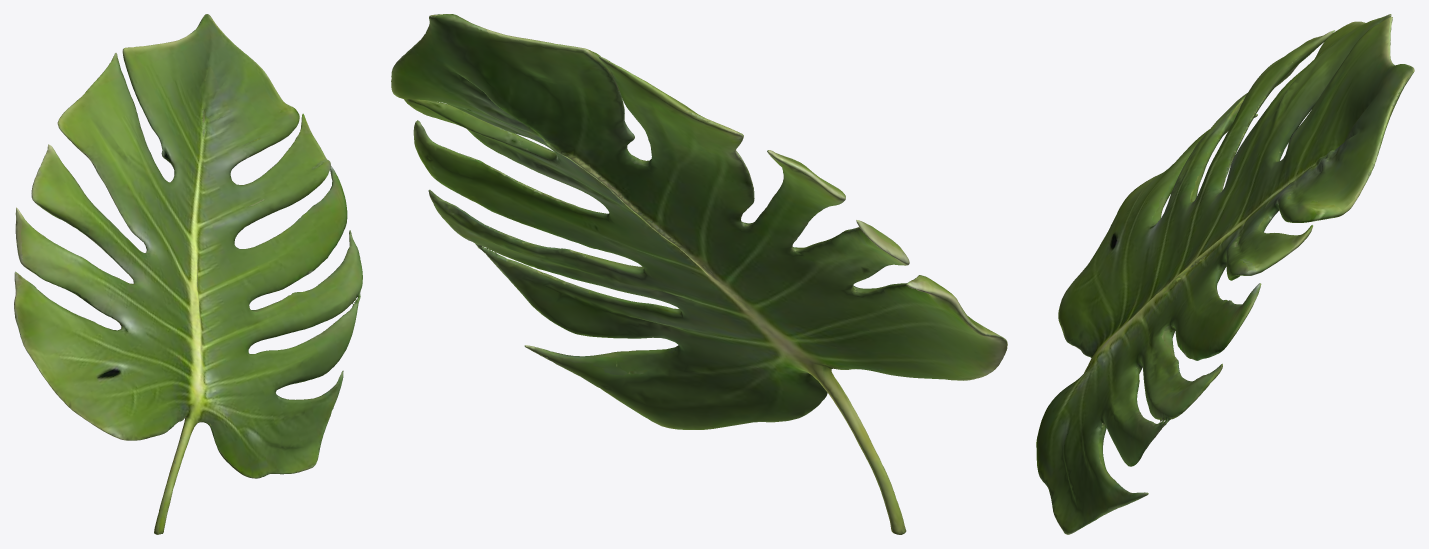
The picture shows the model from 3 angles, left to right: view 1: azimuth 30°, elevation 25°; view 2: azimuth 150°, elevation 25°; view 3: azimuth 270°, elevation 25°; orthographic projection. The views are drawn at different scales.
Size of the model in its own units: 1.87 by 1.99 by 1.31.
1 material, 1 textured.
